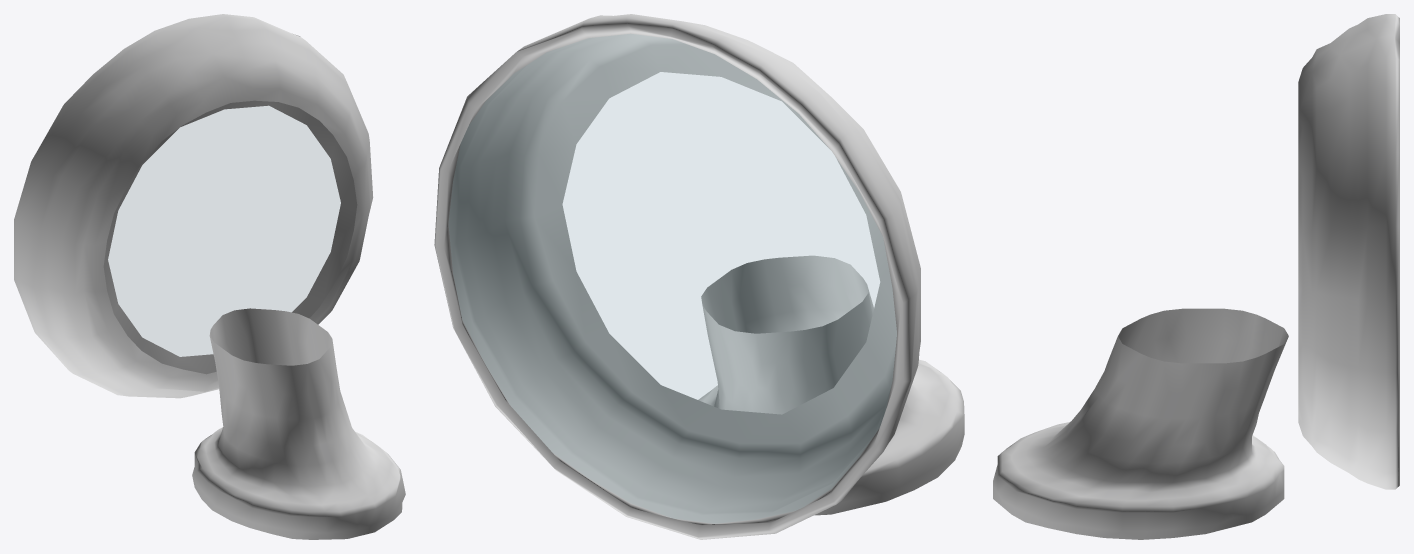
File: Mirror left isolated.gltf
3 renders of one model, left to right at view 1: azimuth 30°, elevation 25°; view 2: azimuth 150°, elevation 25°; view 3: azimuth 270°, elevation 25°, orthographic. The views are drawn at different scales.
Parts seen in each view (by area): view 1: mirror left v6 (×3); view 2: mirror left v6 (×3); view 3: mirror left v6 (×2).
Boxes of the visible parts, x1,y1,x2,y2 form: mirror left v6 (×3): (14, 14, 405, 539); mirror left v6 (×3): (434, 14, 964, 539); mirror left v6 (×2): (993, 14, 1399, 539).
Size of the model in its own units: 10.2 by 10.9 by 8.8.
